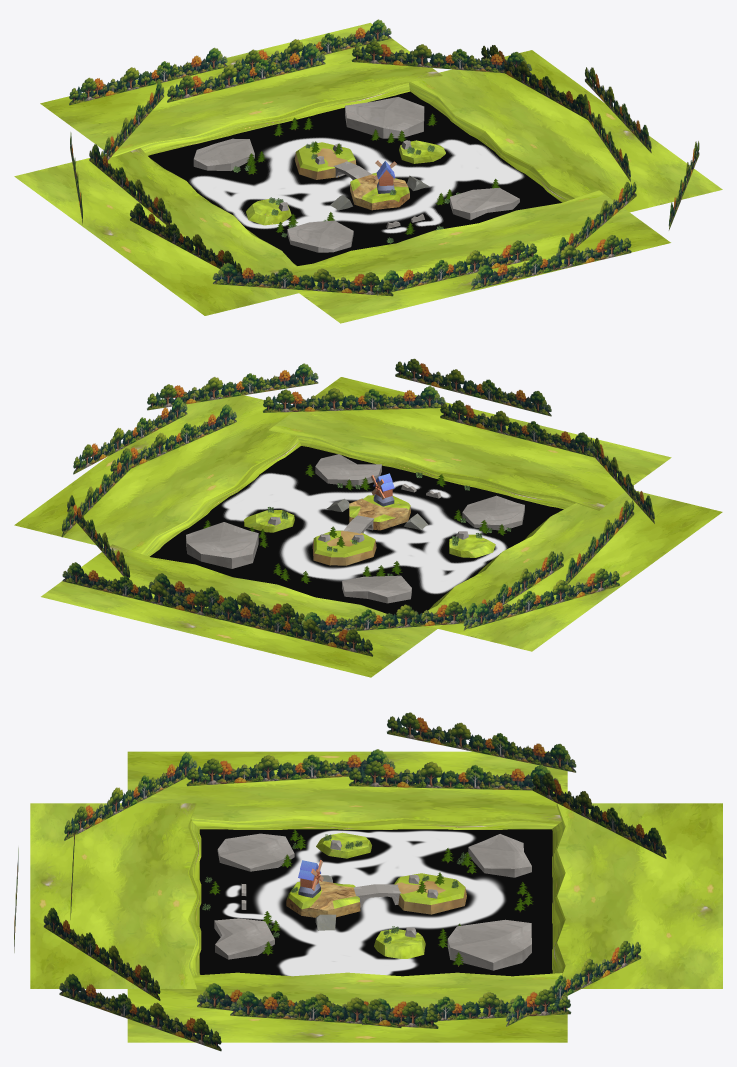
File: TL_the hillfix.glb
The picture shows the model from 3 angles, top to bottom: view 1: azimuth 30°, elevation 25°; view 2: azimuth 150°, elevation 25°; view 3: azimuth 270°, elevation 25°; orthographic projection. The views are drawn at different scales.
Parts seen in each view (by area): view 1: Plane; view 2: Plane; view 3: Plane, unit-mill.
Boxes of the visible parts, x1,y1,x2,y2 form: Plane: (14, 19, 722, 323); Plane: (14, 358, 722, 677); Plane: (14, 712, 722, 1051); unit-mill: (298, 860, 320, 897).
Size of the model in its own units: 2.88 by 0.4225 by 2.82.
10 materials, 10 textured.
